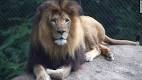lion: (26, 4, 116, 80)
